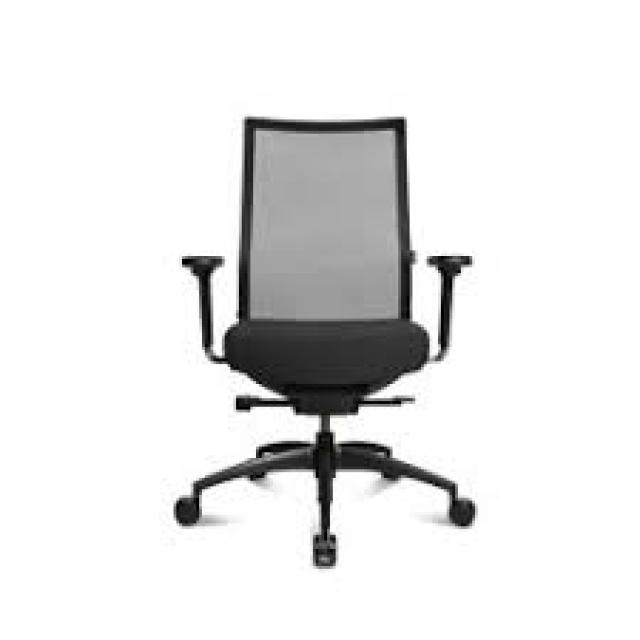chair: (121, 58, 539, 593)
